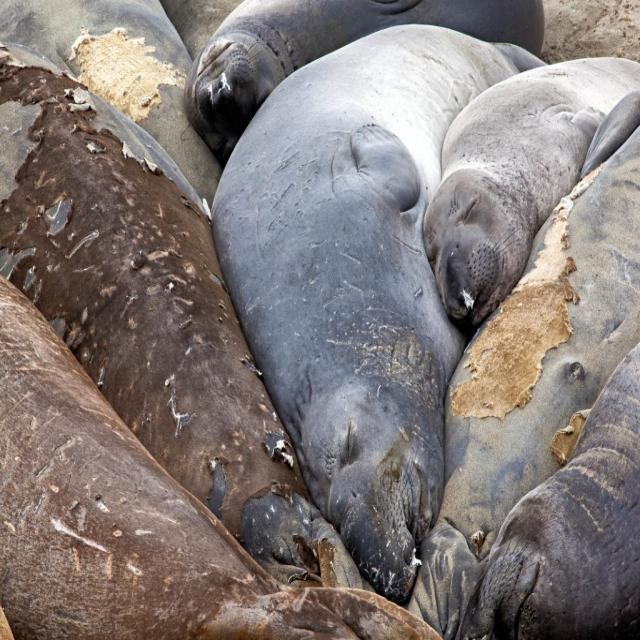WaterDog: (212, 21, 454, 598)
